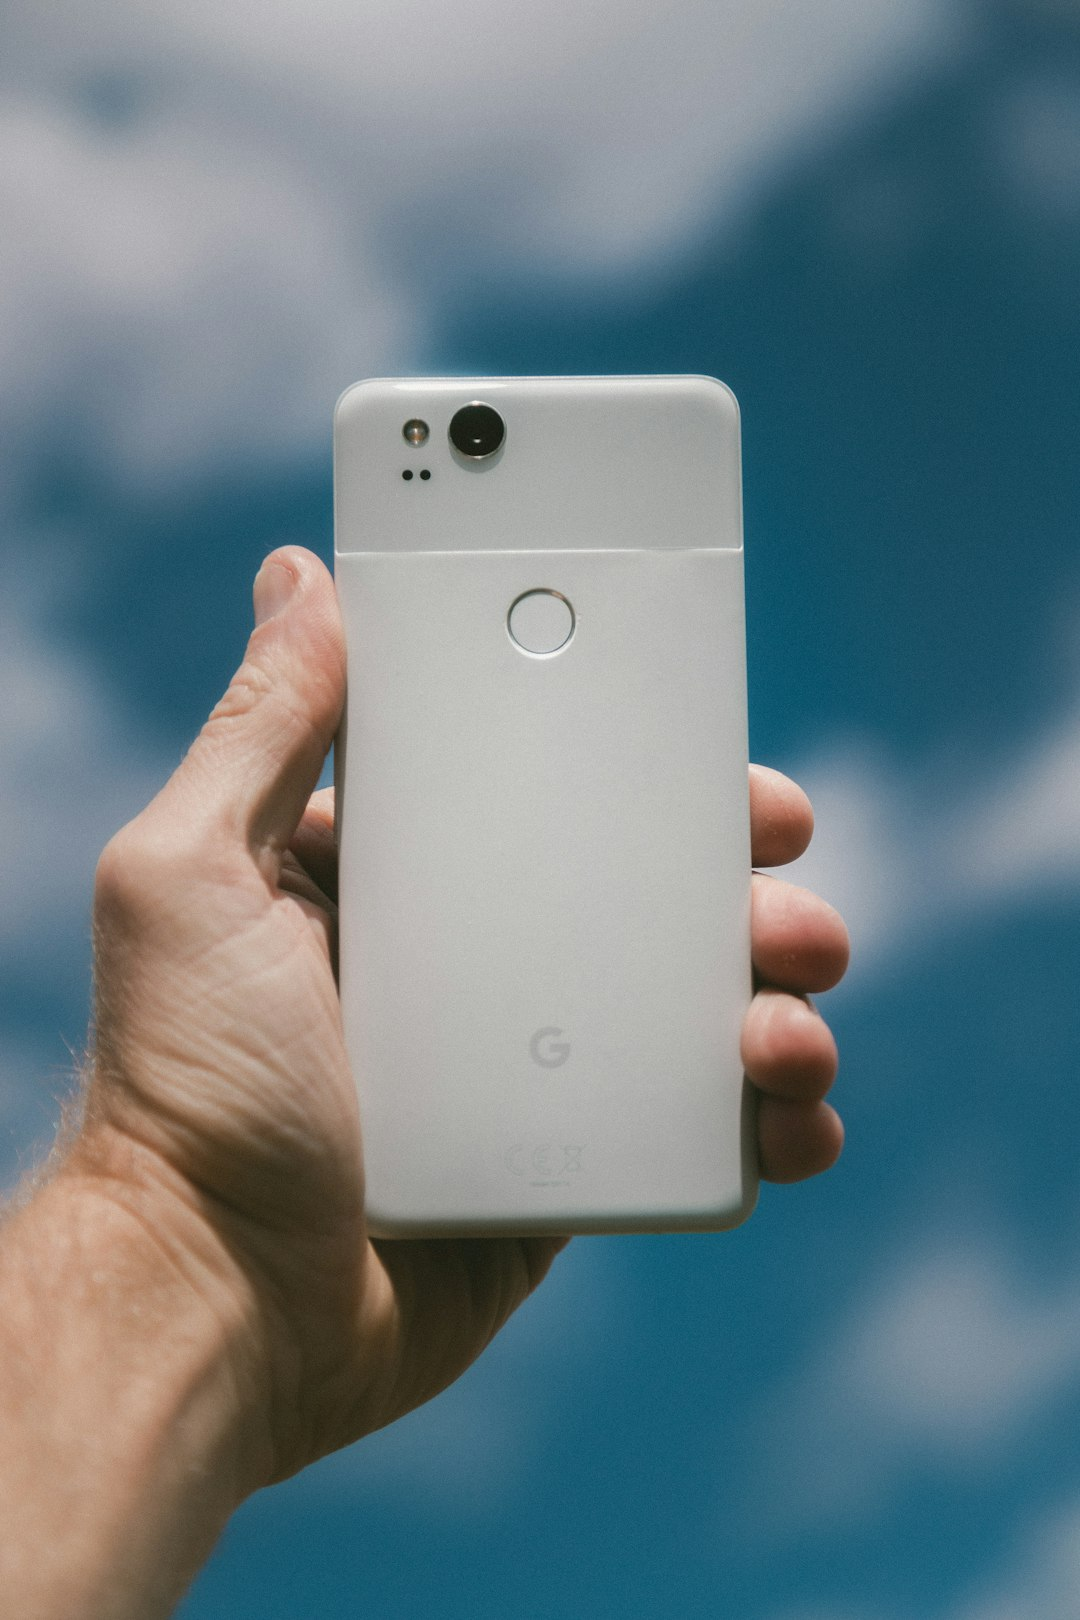phone: (329, 382, 755, 1237)
